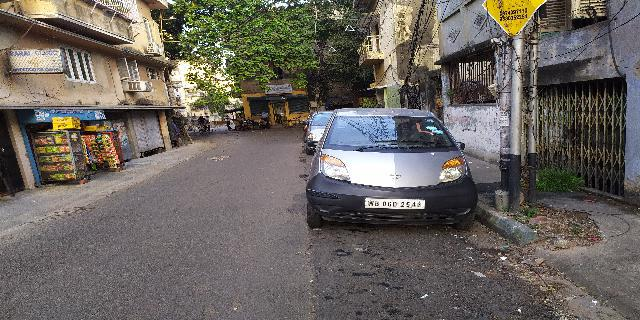Car: (303, 100, 480, 234)
